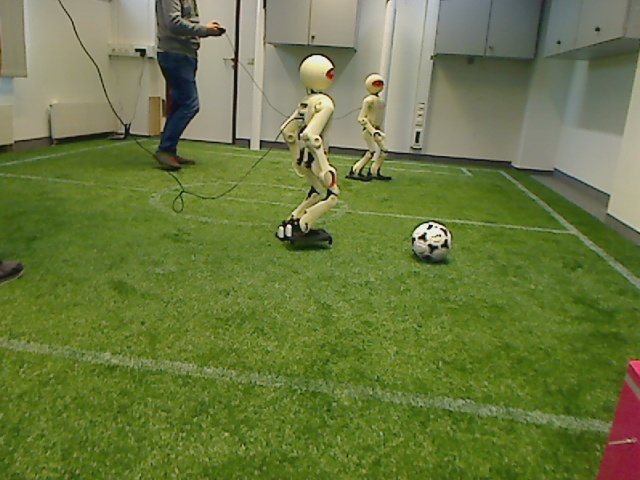ball: (406, 219, 454, 264)
robot: (274, 51, 339, 251), (345, 71, 394, 186)
